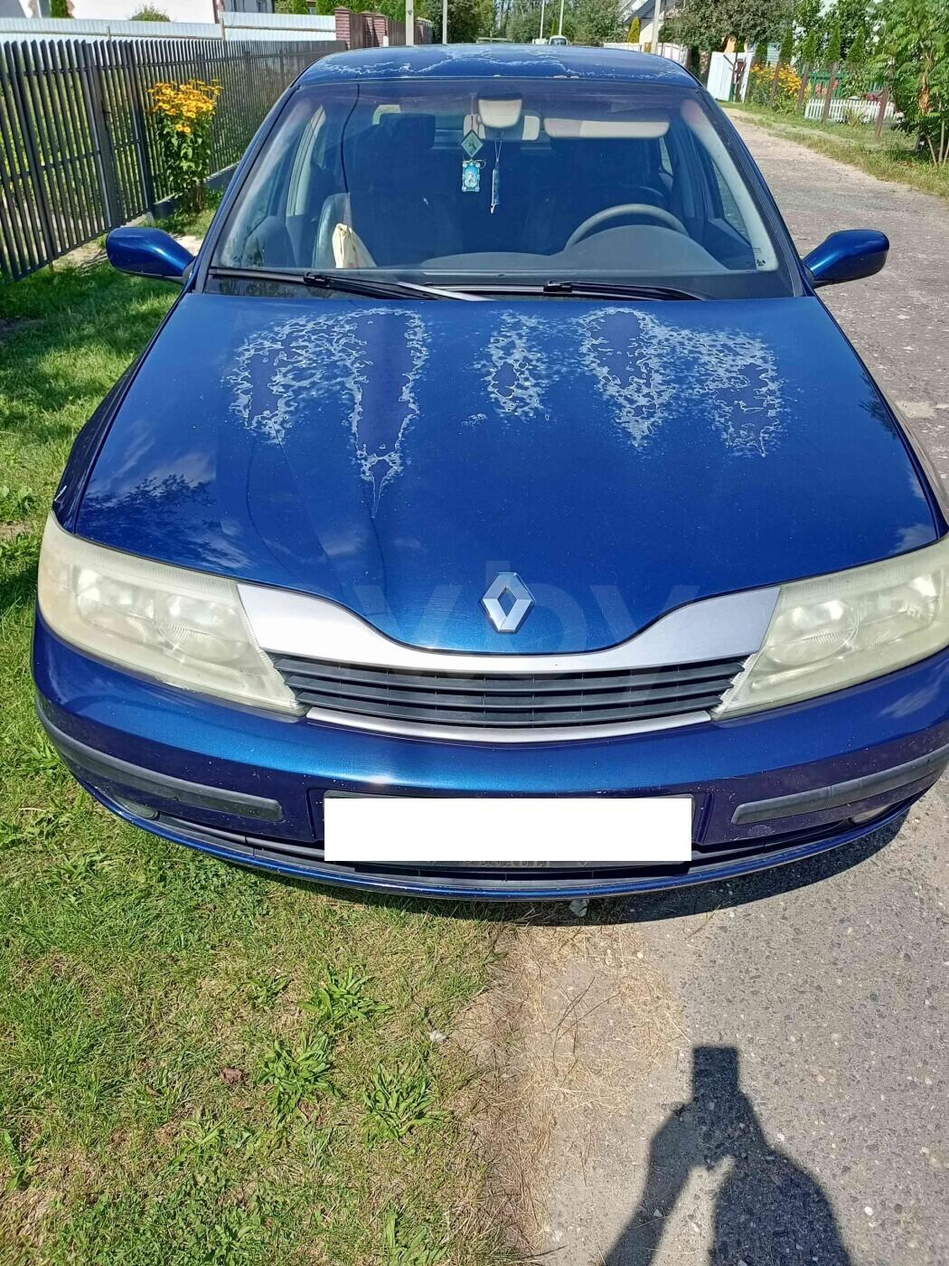Laguna_2001-2005: (33, 45, 948, 899)
